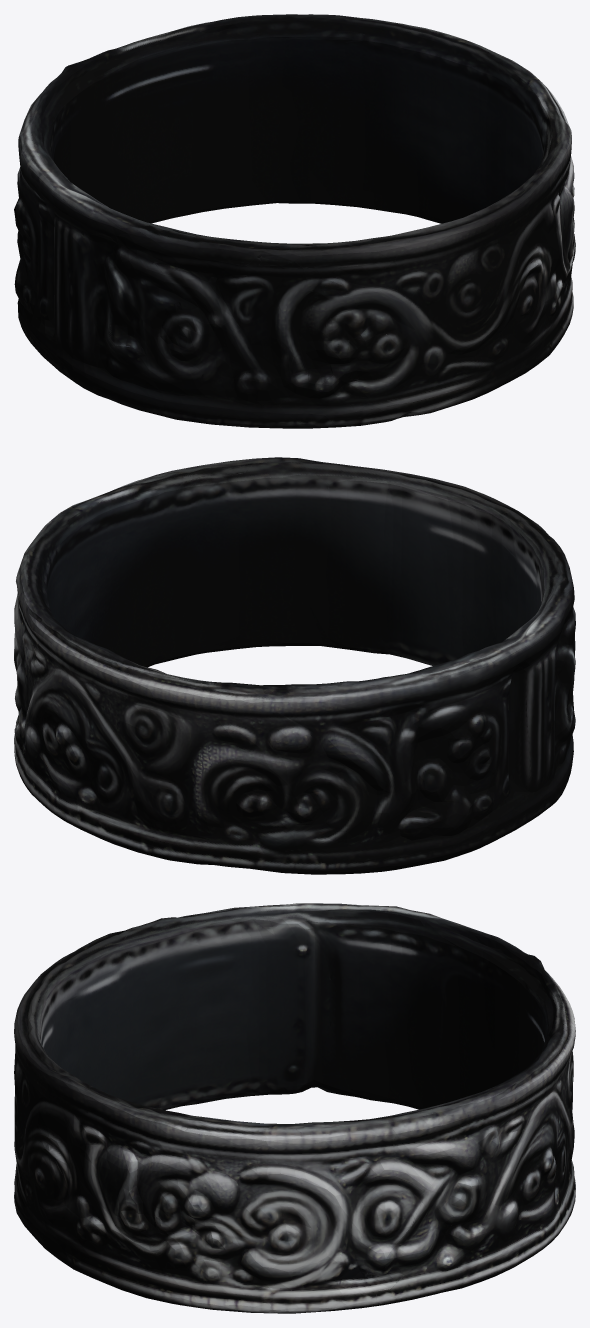
The model's file is leather-cuff-bracelet-3d.jpeg.glb.
3 views of the same model, one above another, from view 1: azimuth 30°, elevation 25°; view 2: azimuth 150°, elevation 25°; view 3: azimuth 270°, elevation 25° (orthographic).
Parts seen in each view (by area): view 1: world; view 2: world; view 3: world.
Boxes of the visible parts, x1,y1,x2,y2 form: world: (14,14,575,428); world: (14,457,575,874); world: (14,903,575,1313).
Size of the model in its own units: 1 by 0.3798 by 0.9999.
1 material, 1 textured.
